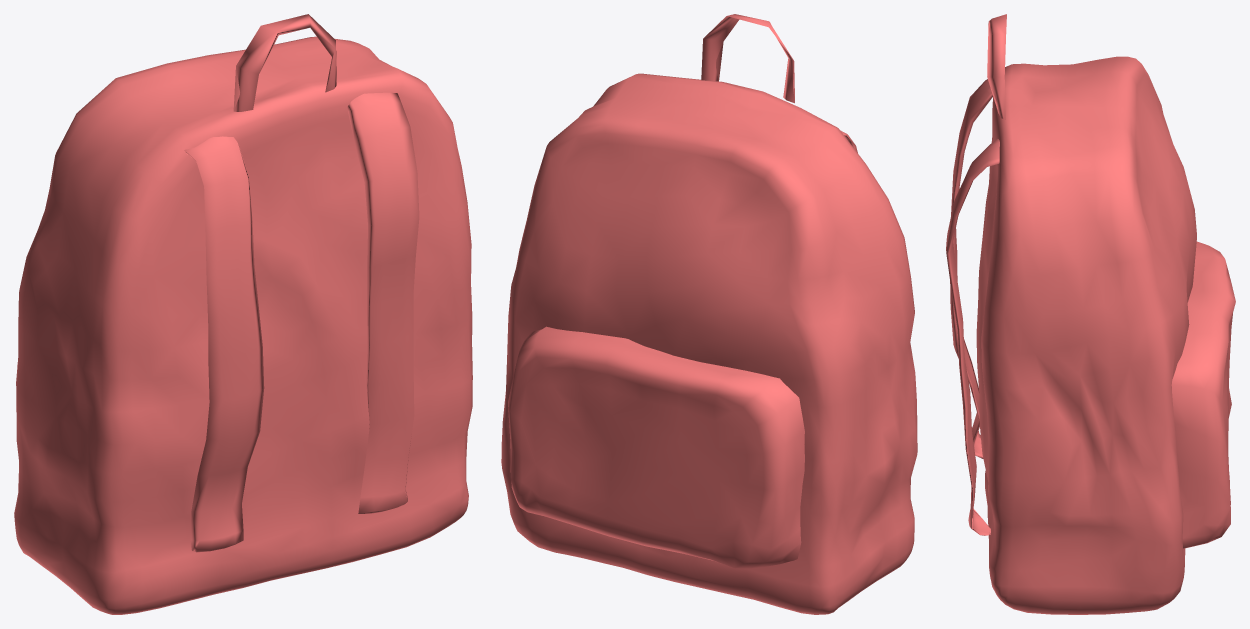
The model's file is Backpack.fbx.
3 views of the same model, side by side, from view 1: azimuth 30°, elevation 25°; view 2: azimuth 150°, elevation 25°; view 3: azimuth 270°, elevation 25° (orthographic). The views are drawn at different scales.
Visible parts, largest first — view 1: Low; view 2: Low; view 3: Low.
Boxes of the visible parts, x1,y1,x2,y2 form: Low: (14, 14, 472, 614); Low: (501, 14, 917, 614); Low: (946, 14, 1235, 614).
Size of the model in its own units: 12.7 by 17.63 by 8.95.
